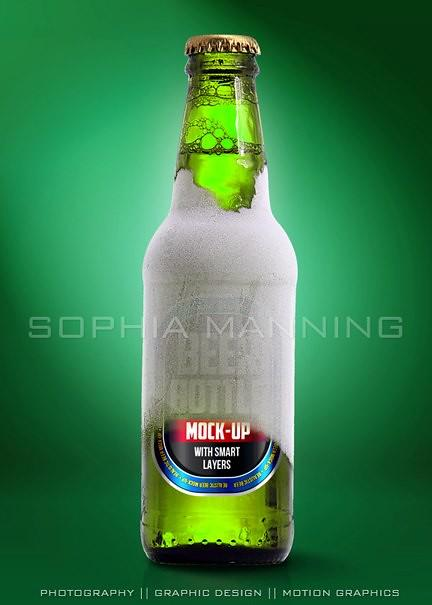bottle: (140, 34, 299, 567)
